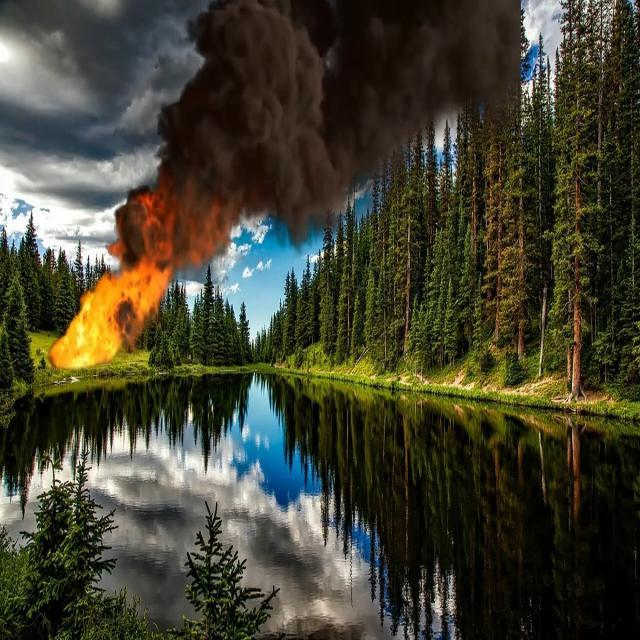Fire: (65, 248, 128, 384)
Smoke: (164, 0, 521, 204)
